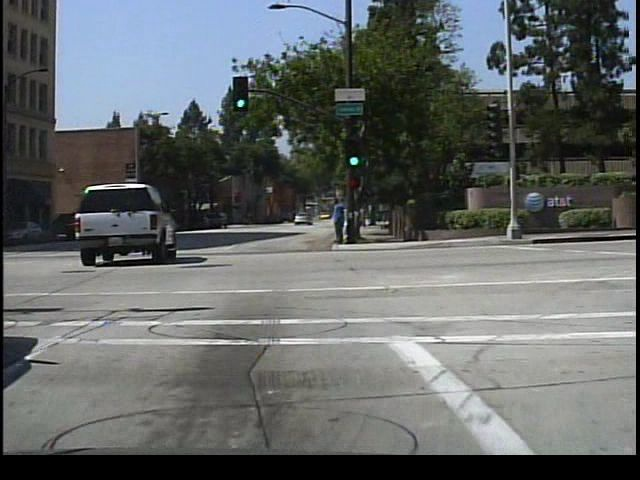person: (326, 189, 346, 245), (335, 194, 353, 242)
